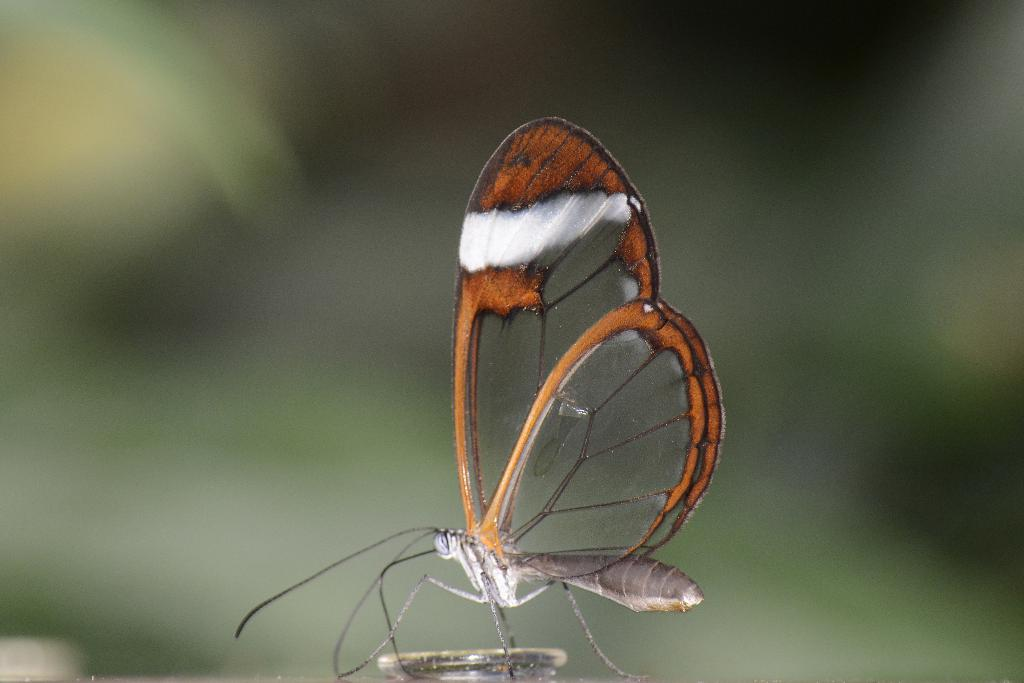Butterfly: (394, 79, 761, 656)
